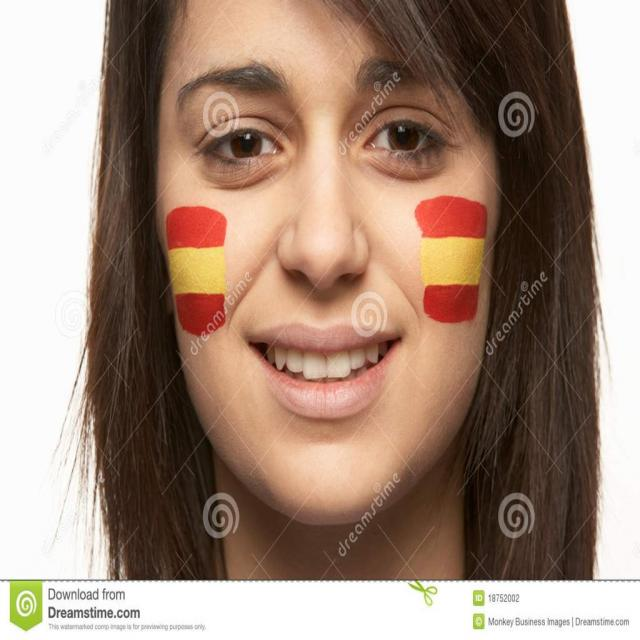nomask: (154, 21, 495, 526)
